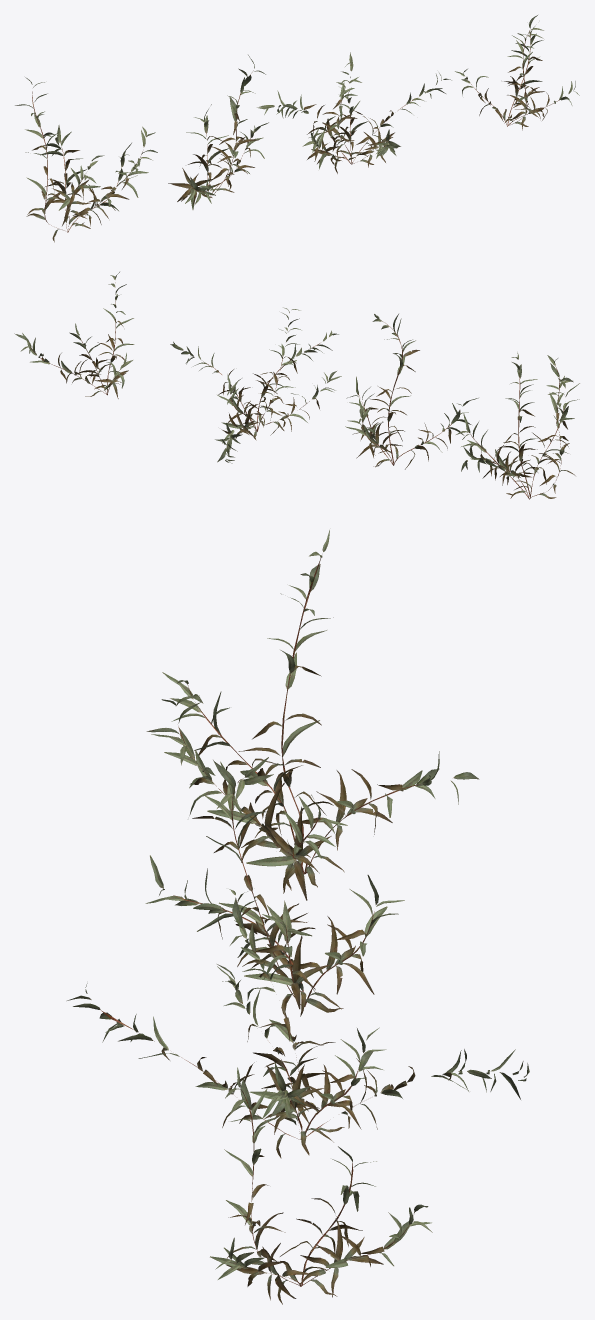
The model's file is shrub_02.glb.
3 renders of one model, top to bottom at view 1: azimuth 30°, elevation 25°; view 2: azimuth 150°, elevation 25°; view 3: azimuth 270°, elevation 25°, orthographic. The views are drawn at different scales.
Parts seen in each view (by area): view 1: shrub_02_a, shrub_02_c, shrub_02_b, shrub_02_d; view 2: shrub_02_a, shrub_02_c, shrub_02_b, shrub_02_d; view 3: shrub_02_a, shrub_02_c, shrub_02_b, shrub_02_d.
Part boxes in pixels (bbox=[...]): shrub_02_a: bbox=[15, 77, 157, 242]; shrub_02_c: bbox=[257, 52, 451, 173]; shrub_02_b: bbox=[168, 55, 268, 209]; shrub_02_d: bbox=[455, 15, 579, 130]; shrub_02_a: bbox=[456, 352, 579, 499]; shrub_02_c: bbox=[170, 307, 341, 463]; shrub_02_b: bbox=[345, 314, 478, 469]; shrub_02_d: bbox=[14, 272, 134, 398]; shrub_02_a: bbox=[146, 530, 479, 900]; shrub_02_c: bbox=[67, 889, 529, 1158]; shrub_02_b: bbox=[145, 757, 404, 1017]; shrub_02_d: bbox=[210, 1067, 432, 1304].
Bounding box in the file's own units: 6.05 × 1.7 × 2.28.
Materials: 1 (1 with a texture image).
